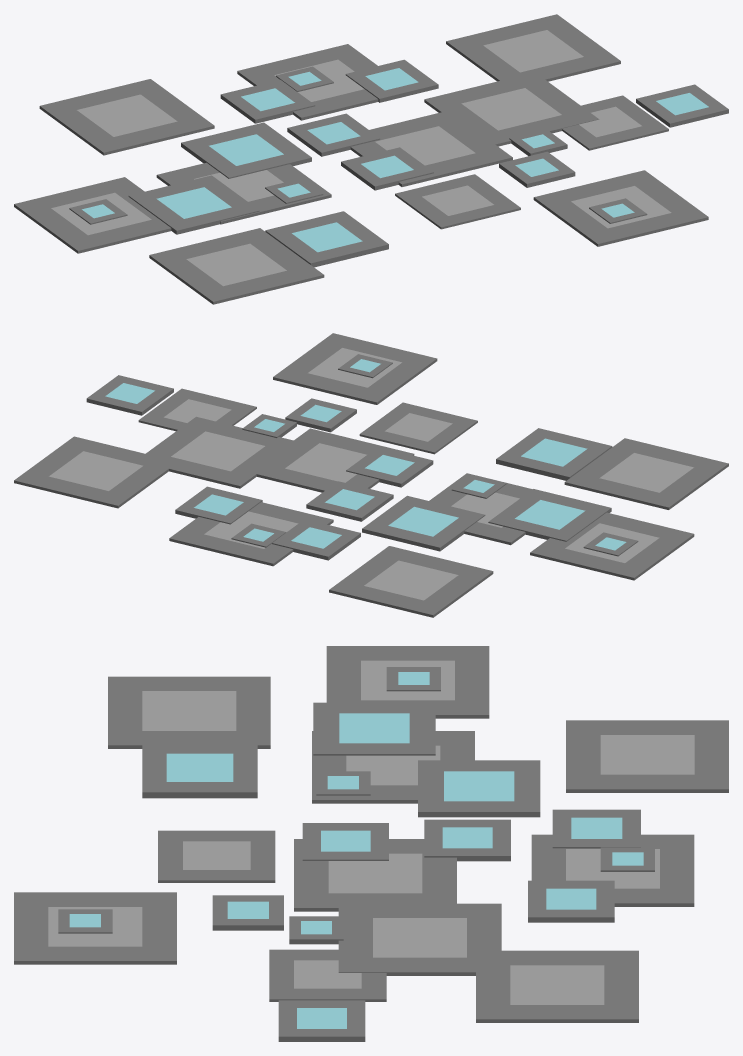
Rendered from ColorPatch3.fbx.
3 renders of one model, top to bottom at view 1: azimuth 30°, elevation 25°; view 2: azimuth 150°, elevation 25°; view 3: azimuth 270°, elevation 25°, orthographic. The views are drawn at different scales.
Visible parts, largest first — view 1: polySurface27; view 2: polySurface27; view 3: polySurface27.
Boxes of the visible parts, x1,y1,x2,y2 form: polySurface27: (14, 14, 728, 304); polySurface27: (14, 333, 728, 617); polySurface27: (14, 646, 728, 1041).
Size of the model in its own units: 85.56 by 0.6318 by 65.92.
